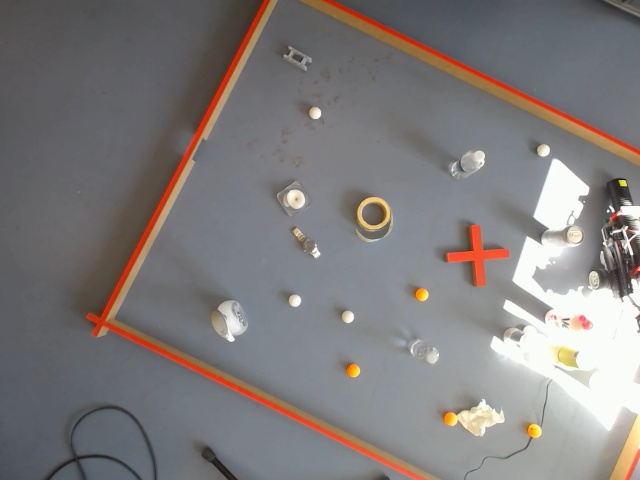orange: (211, 308, 226, 337), (413, 287, 431, 303), (345, 363, 361, 379), (443, 411, 457, 427), (527, 424, 541, 439)
robot: (600, 171, 640, 402)
white: (449, 148, 488, 180), (458, 149, 488, 177), (286, 185, 307, 212), (424, 346, 441, 367), (534, 142, 552, 159), (287, 293, 303, 310), (340, 309, 356, 325), (307, 106, 323, 121), (589, 270, 599, 285)
